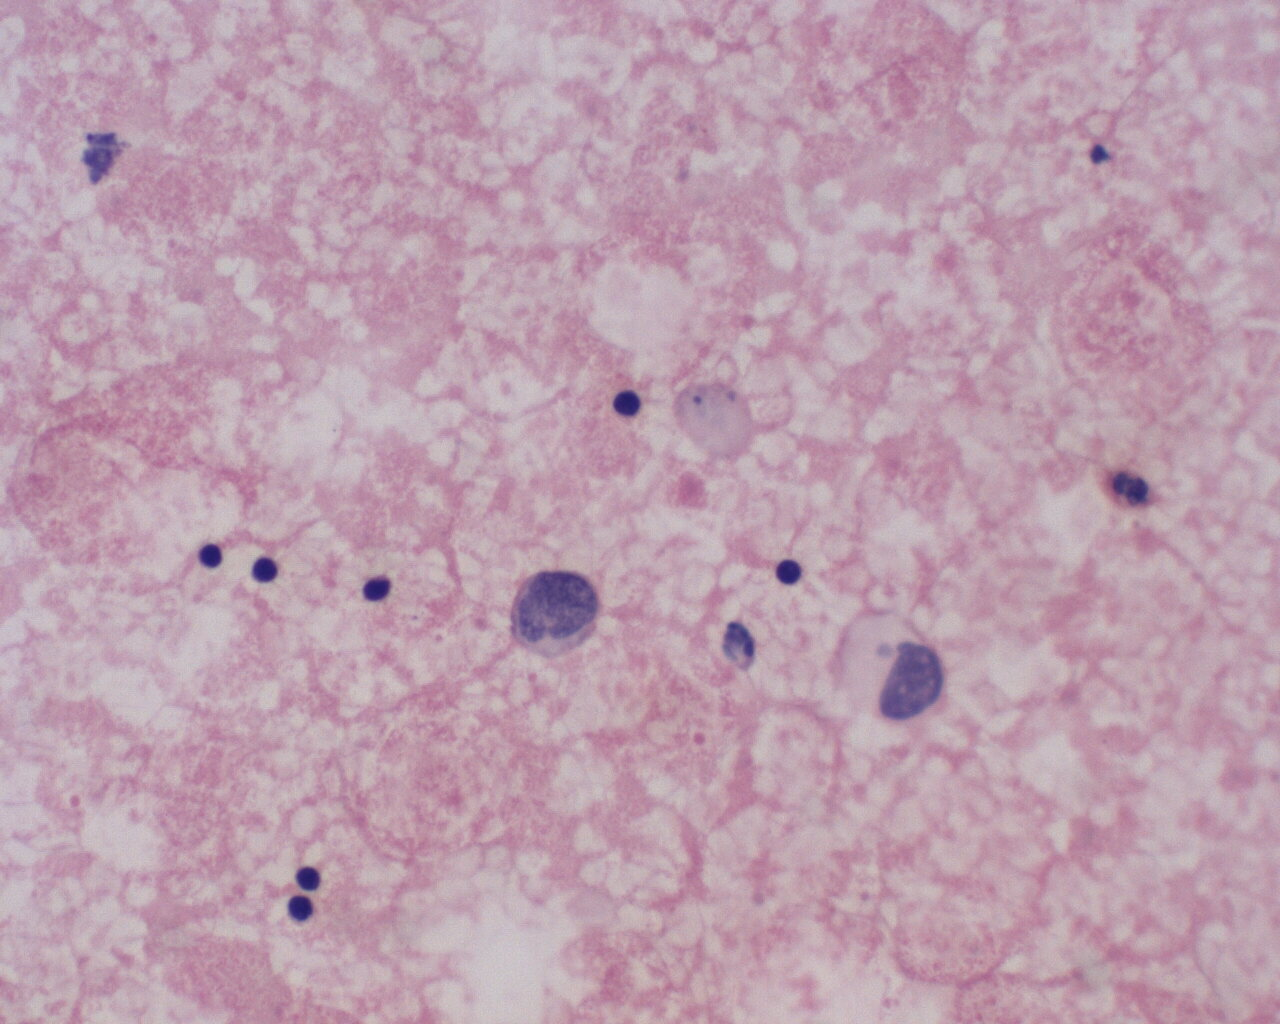lymph: (360, 567, 399, 607), (247, 552, 286, 587), (193, 538, 233, 572), (609, 387, 645, 421), (293, 861, 326, 893), (772, 557, 808, 587), (284, 894, 317, 924)
